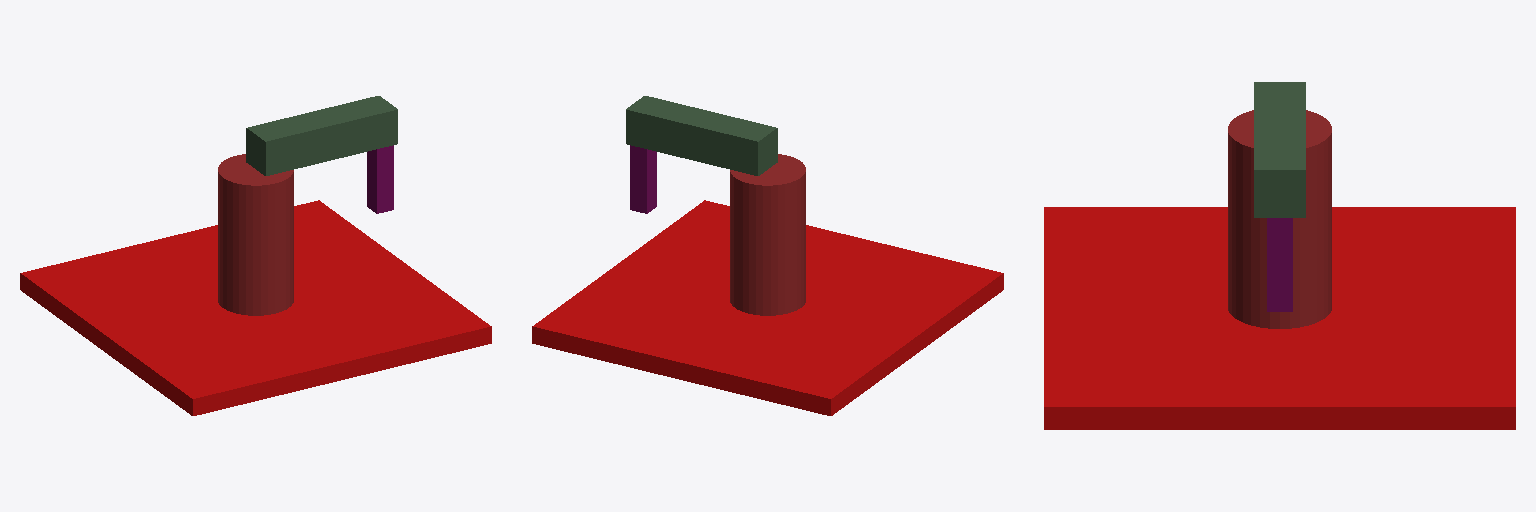
URDF robot description (PRRrobot):
<?xml version="1.0"?>
<robot name="PRRrobot">
  
  <material name = 'color1'>
   <color rgba='0.6 0.2 0.2 0.8' />
    </material>
  <material name = 'color2'>
   <color rgba='0.3 0.4 0.3 0.9' />
    </material>
  <material name = 'color3'>
   <color rgba='0.5 0.1 0.4 0.7' />
    </material>
  <material name = 'colorbase'>
   <color rgba='0.8 0.1 0.1 0.9' />
    </material>


  <link name="baseLink" >
    <visual>
        <geometry>
            <box size='1.8 1.8 0.1' />
        </geometry>
        <material name='colorbase' />
        <origin xyz="0 0 0" />
    </visual>
    </link>

  <link name="prismaticLink" >
     <visual>
         <geometry>
             <cylinder radius = "0.2" length="0.8" />
         </geometry>
         <material name='color1' />
         <origin xyz="0 0 0.4" />
     </visual>
</link>


  <link name="revoluteLink1" >
            <visual>
                <geometry>
                     <box size='0.2 0.2 0.8'/>
                </geometry>
            <material name='color2' />
            <origin  xyz="-0.1 0 0.4"/>
           </visual>
</link>


  <link name="revoluteLink2" >
            <visual>
                <geometry>
                     <box size='0.1 0.1 0.4'/>
                </geometry>
            <material name='color3' />
            <origin  xyz="0.05 0 0.2"/>
           </visual>
</link>



  <joint name="baseToprismatic" type="prismatic">
    <parent link="baseLink" />
    <child link="prismaticLink" />
    <axis xyz="0 0 1" />
    <limit effort='30' velocity='1.0' lower="-1" upper="1" />
  </joint>
  
  <joint name="prismaticTorevolute1" type="revolute">
    <parent link="prismaticLink" />
    <child link="revoluteLink1" />
    <limit effort='30' velocity='1.0' lower="-1" upper="1" />
    <origin xyz="0 0 0.8" rpy="0 1.5708 0" />
    <axis xyz="0 1 0" />
    
  </joint>
  
  <joint name="revolute1Torevolute2" type="revolute">
    <parent link="revoluteLink1" />
    <child link="revoluteLink2" />
    <limit effort='30' velocity='1.0' lower="-1" upper="1" />
    <origin xyz="0 0 0.8" rpy="0 1.5708 0" />
    <axis xyz="1 0 0" />
    
  </joint>


  
</robot>

--- What the picture shows (computed from the rendered views, not written in the file) ---
The picture shows the robot from 3 angles, left to right: view 1: azimuth 30°, elevation 25°; view 2: azimuth 150°, elevation 25°; view 3: azimuth 270°, elevation 25°; orthographic projection.
Robot: PRRrobot — 4 links, 3 joints (2 revolute, 1 prismatic); root link baseLink; default pose: every joint at zero.
Visible links, largest first — view 1: baseLink, prismaticLink, revoluteLink1, revoluteLink2; view 2: baseLink, prismaticLink, revoluteLink1, revoluteLink2; view 3: baseLink, prismaticLink, revoluteLink1, revoluteLink2.
Link boxes in pixels (x1,y1,x2,y2): baseLink: (20,200,491,415); prismaticLink: (218,154,293,315); revoluteLink1: (246,96,397,175); revoluteLink2: (367,145,393,213); baseLink: (532,200,1003,415); prismaticLink: (730,154,805,315); revoluteLink1: (626,96,777,175); revoluteLink2: (630,145,656,213); baseLink: (1044,207,1515,429); prismaticLink: (1228,110,1331,328); revoluteLink1: (1254,82,1305,217); revoluteLink2: (1267,218,1292,311).
Bounding box of the posed robot: 1.8 × 1.8 × 1.05 m (x, y, z).
Geometry: primitives only (box / cylinder / sphere), no mesh files.